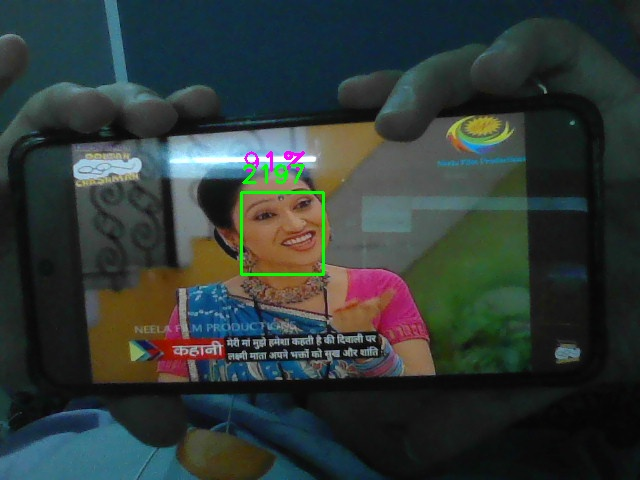fake: (241, 192, 324, 275)
